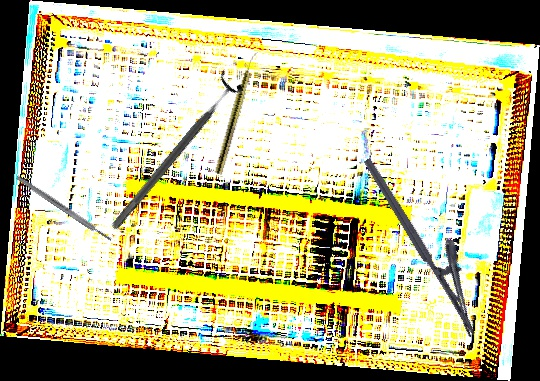Fixation Ring: (102, 68, 247, 238)
Handpiece: (213, 48, 260, 176)
Needle Holder: (361, 142, 502, 339)
Scalpel Handle: (15, 174, 113, 243)
